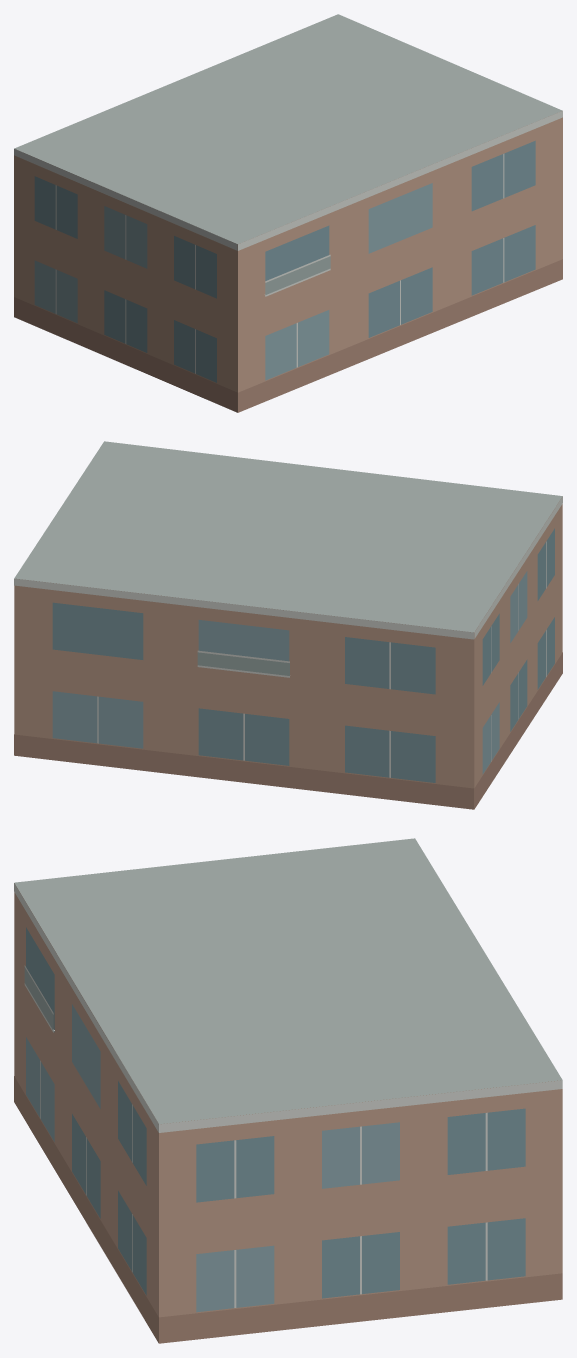
The model's file is survey-upis-33044043.glb.
3 views of the same model, one above another, from view 1: azimuth 30°, elevation 25°; view 2: azimuth 150°, elevation 25°; view 3: azimuth 270°, elevation 25° (orthographic). The views are drawn at different scales.
Parts seen in each view (by area): view 1: survey-upis-33044043.tmp; view 2: survey-upis-33044043.tmp; view 3: survey-upis-33044043.tmp.
Part boxes in pixels (x1,y1,x2,y2): survey-upis-33044043.tmp: (14,14,562,412); survey-upis-33044043.tmp: (14,441,562,809); survey-upis-33044043.tmp: (14,838,562,1343).
Size of the model in its own units: 17.07 by 6.1 by 13.84.
